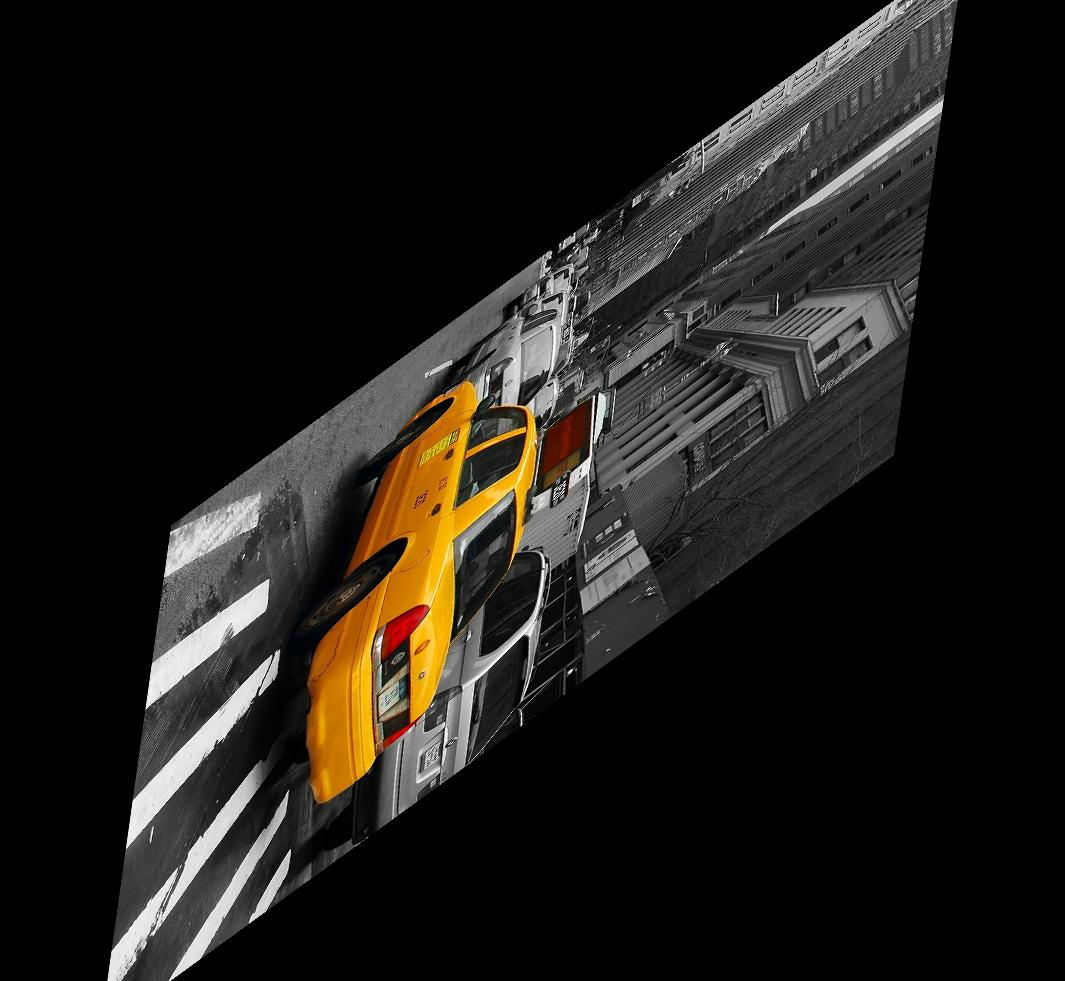taxi: (280, 331, 544, 834)
